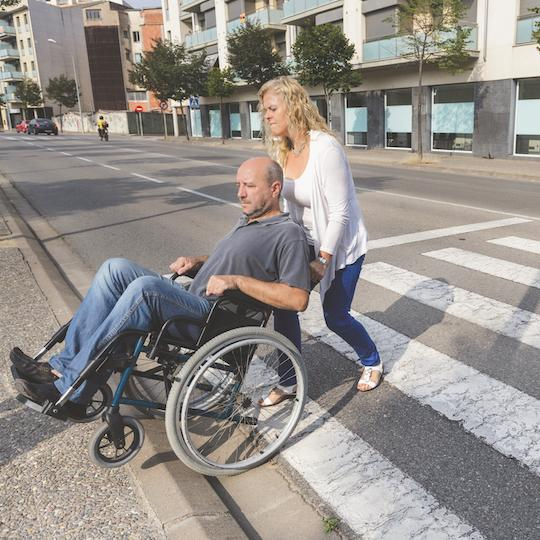push_wheelchair: (170, 76, 385, 407)
wheelchair: (9, 157, 312, 477)
